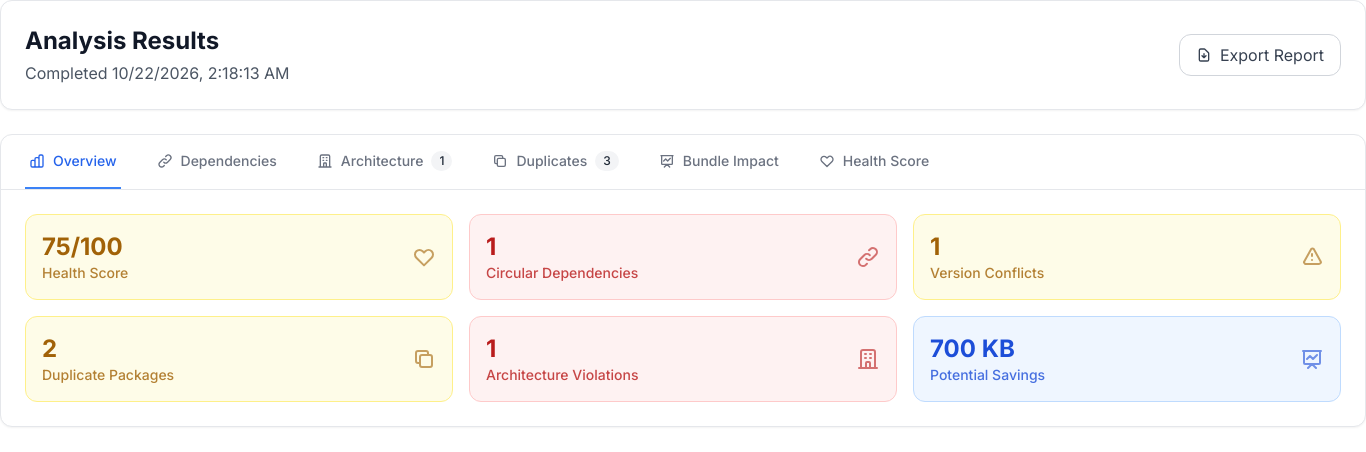
AnalysisResults › Empty States › [P1] should display empty state for missing dependency analysis
The width and height of the screenshot is (1366, 452).
// Dependencies tab is clicked
Click the button "Dependencies". click: (217, 162)
box: [152,135,281,189]
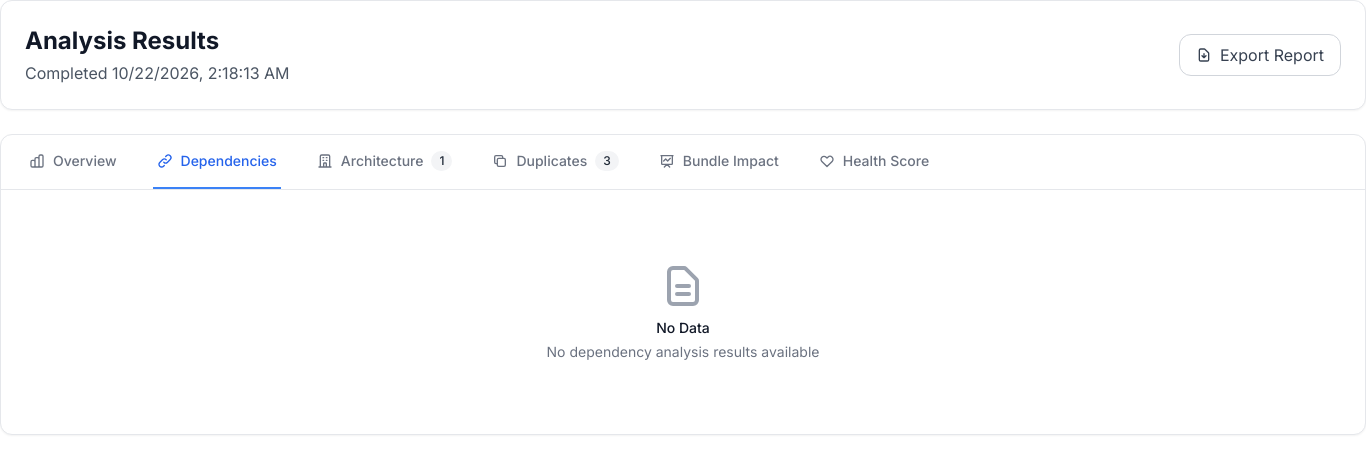
Expected: the text "No dependency analysis results available" is shown, [546,343,819,360]
